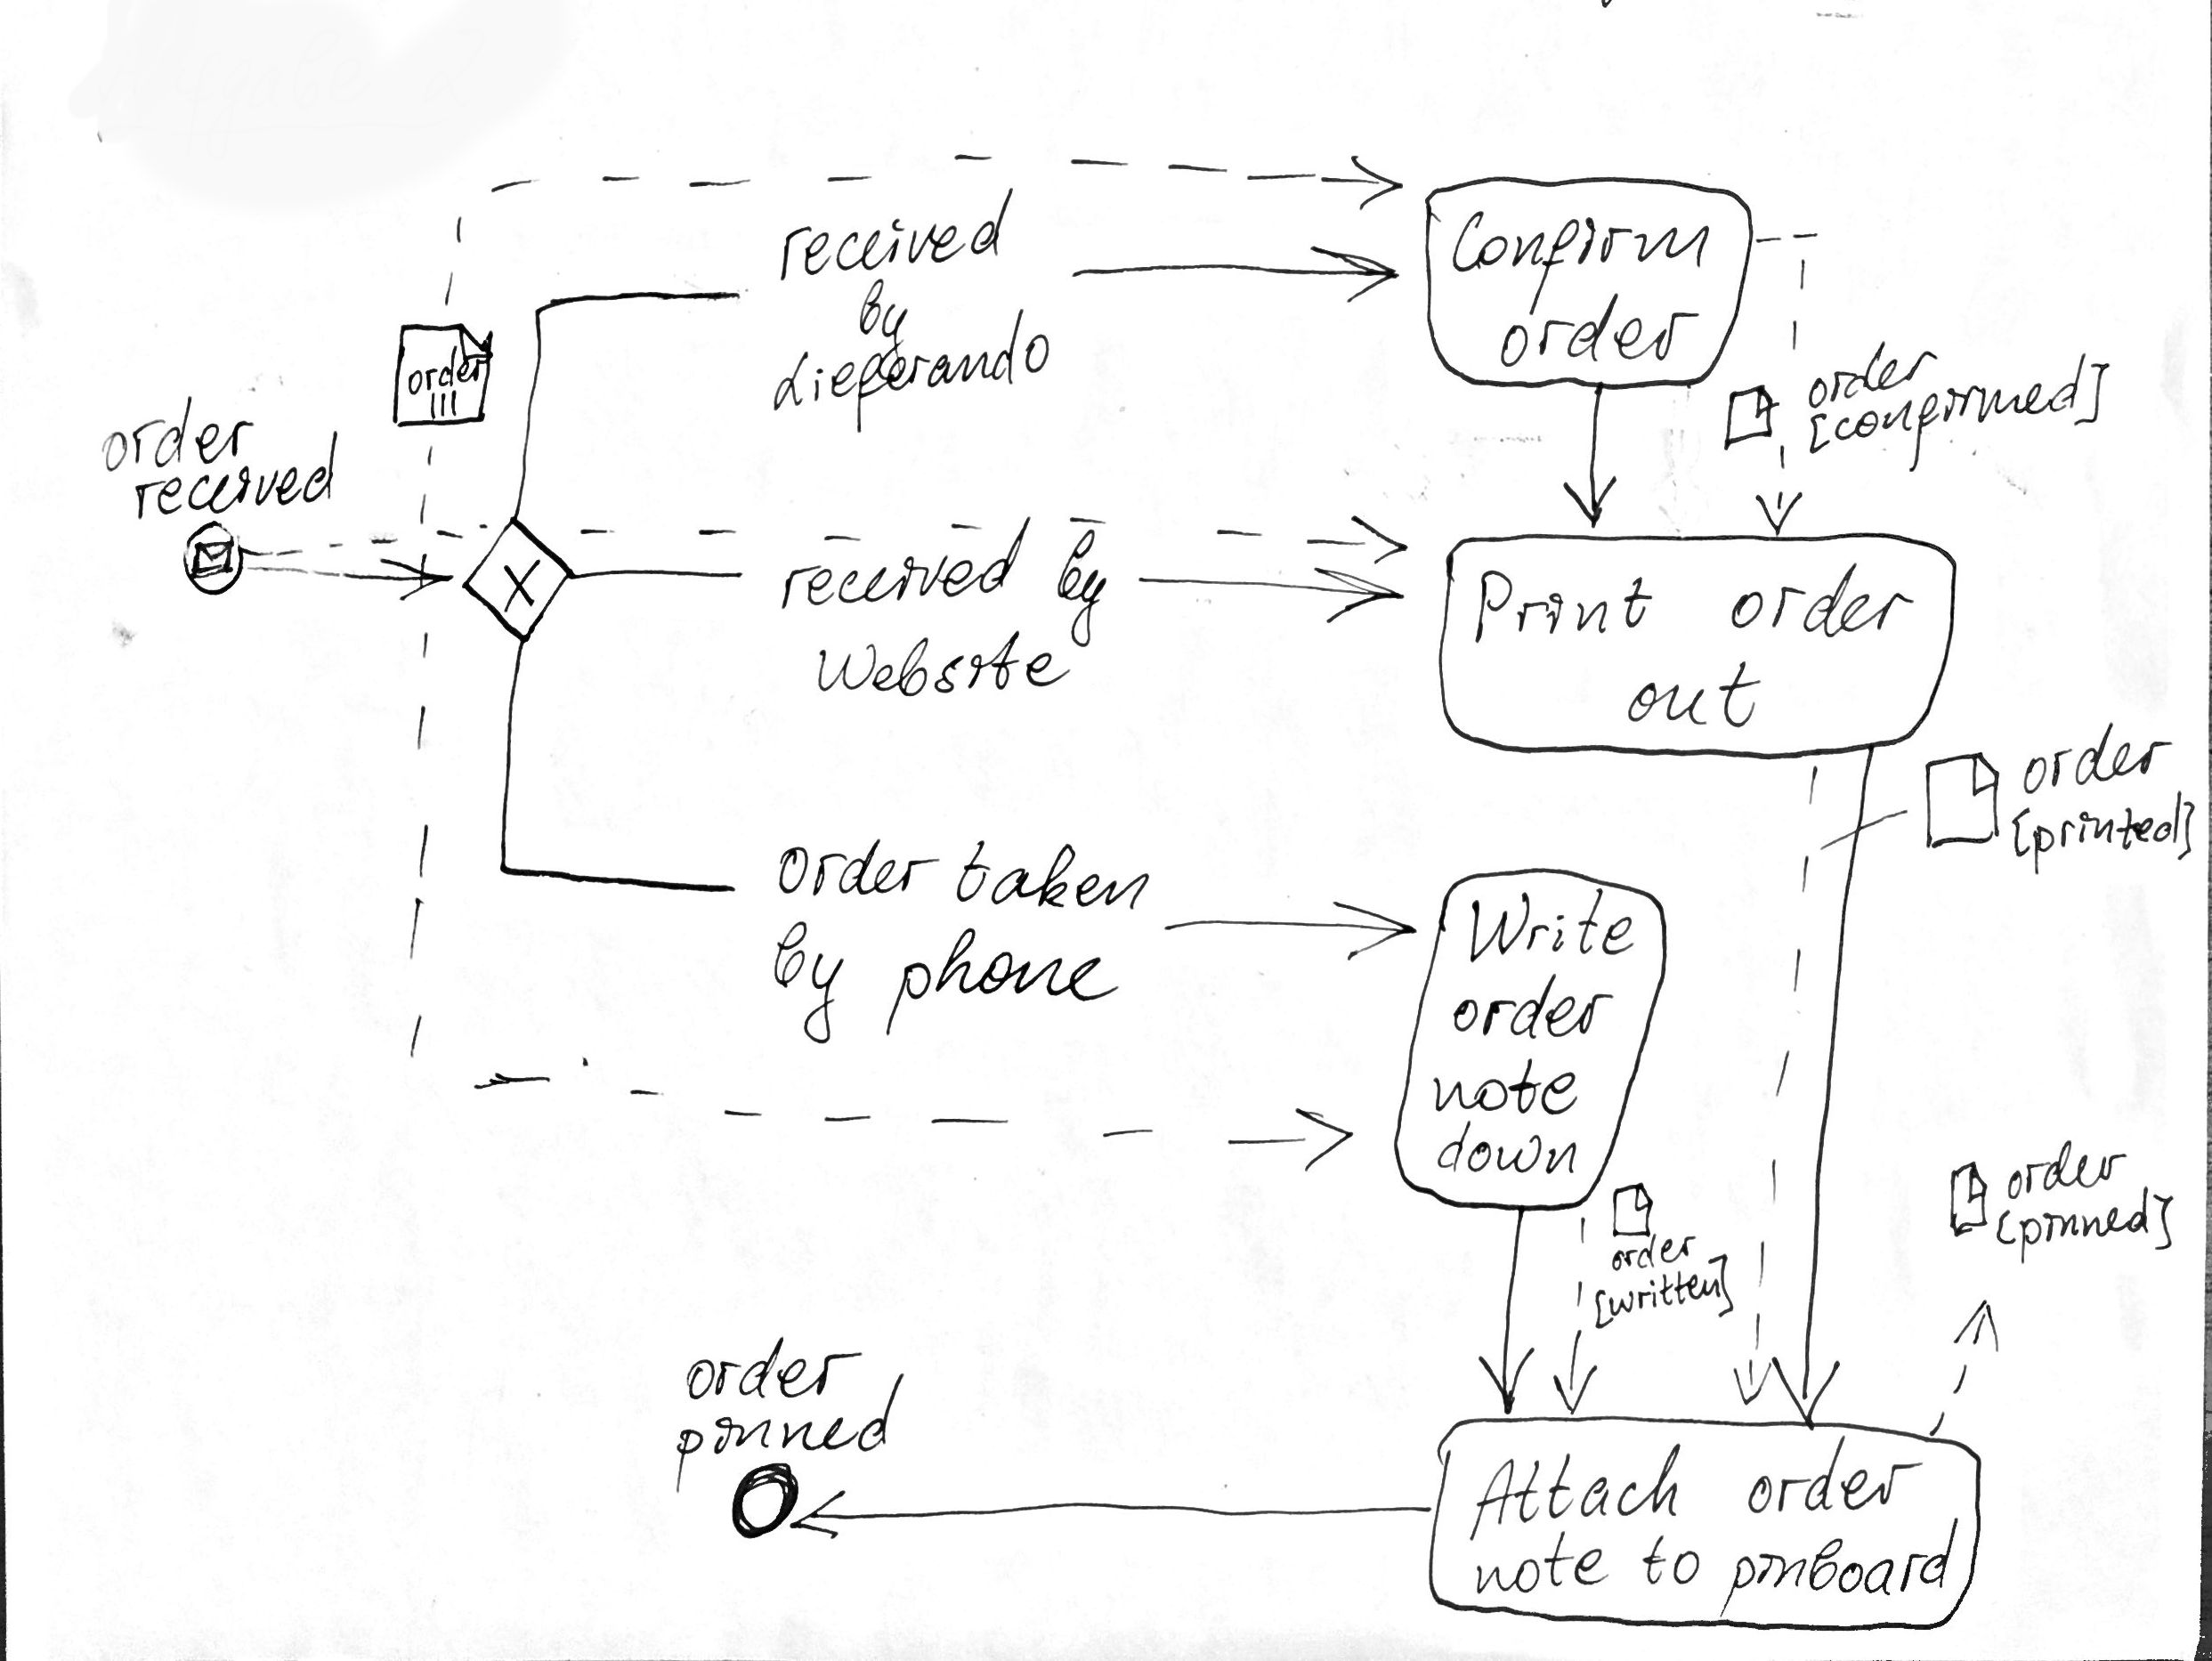Attach: (1458, 1446, 1703, 1539)
Confirm: (1441, 206, 1708, 298)
IIII: (426, 387, 466, 419)
Lieferando: (766, 352, 1050, 434)
Print: (1469, 571, 1654, 644)
Website: (809, 632, 1066, 703)
Write: (1464, 888, 1636, 965)
[confirmed]: (1802, 417, 2113, 497)
[pinned]: (1990, 1188, 2181, 1261)
[printed]: (2008, 792, 2200, 872)
[written]: (1586, 1281, 1731, 1345)
by: (762, 923, 853, 1047), (1045, 530, 1139, 647), (853, 276, 911, 344)
down: (1432, 1120, 1582, 1179)
note: (1474, 1532, 1615, 1600), (1430, 1061, 1582, 1117)
order: (1746, 1434, 1922, 1528), (1492, 295, 1696, 375), (1727, 560, 1919, 642), (680, 1335, 864, 1408), (85, 403, 260, 476), (773, 839, 944, 907), (1448, 972, 1615, 1040), (2015, 721, 2174, 792), (1996, 1139, 2130, 1204), (1790, 354, 1938, 410), (399, 342, 488, 389), (1601, 1241, 1703, 1279)
out: (1622, 656, 1764, 735)
phone: (881, 930, 1127, 1035)
pinboard: (1715, 1516, 1961, 1616)
pinned: (665, 1406, 912, 1476)
received: (773, 513, 1036, 619), (768, 188, 1022, 276), (122, 478, 347, 539)
taken: (951, 834, 1155, 921)
to: (1635, 1525, 1711, 1603)
